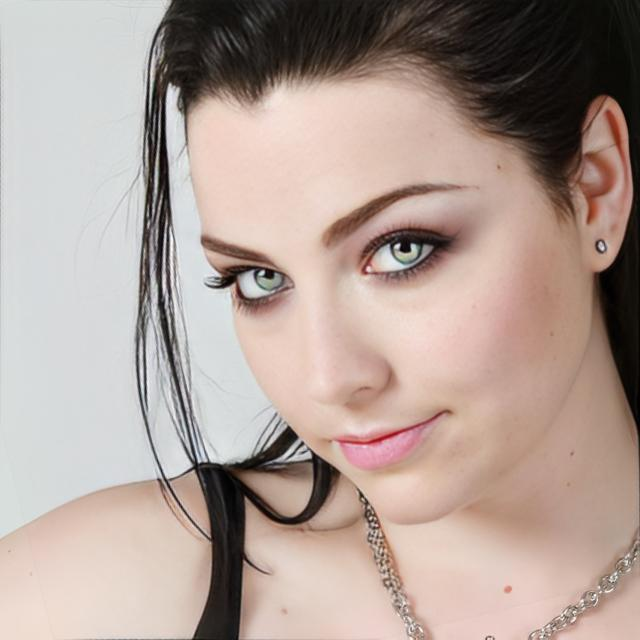content: (190, 72, 588, 526)
